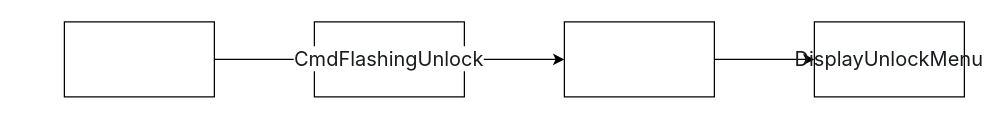
The diagram is 1005 pixels wide and 119 high, and some of its shapes have lost their labels. The centre of each missing label's shape, as x and y in pixels:
"FastbootCommandSetup" belongs at (x=138, y=59).
"SetDeviceUnlock" belongs at (x=638, y=59).
